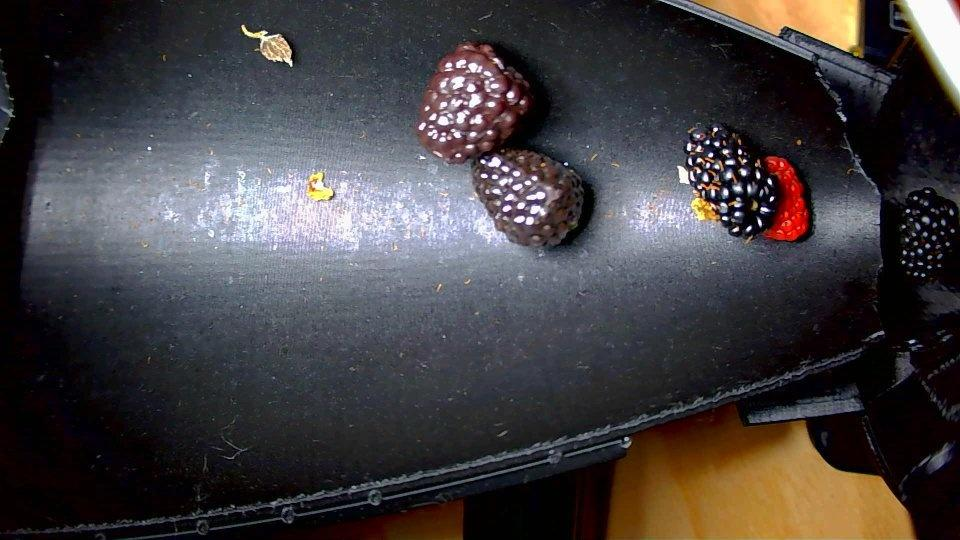berry: (415, 41, 531, 163), (683, 124, 780, 238), (472, 148, 584, 246), (899, 187, 959, 280), (763, 156, 810, 240)
